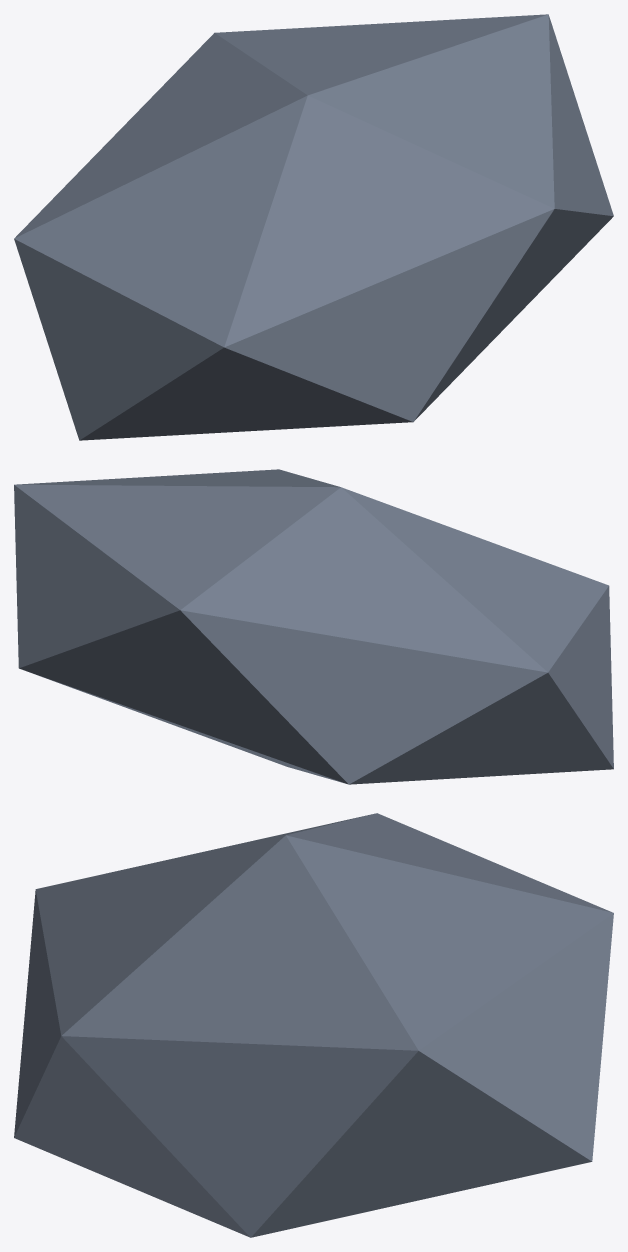
File: EXTG_BranchStone_01.glb
The picture shows the model from 3 angles, top to bottom: view 1: azimuth 30°, elevation 25°; view 2: azimuth 150°, elevation 25°; view 3: azimuth 270°, elevation 25°; orthographic projection. The views are drawn at different scales.
Visible parts, largest first — view 1: EXTG_BranchStone_01; view 2: EXTG_BranchStone_01; view 3: EXTG_BranchStone_01.
Boxes of the visible parts, x1=… form: EXTG_BranchStone_01: x1=14, y1=14, x2=613, y2=440; EXTG_BranchStone_01: x1=14, y1=469, x2=613, y2=784; EXTG_BranchStone_01: x1=14, y1=813, x2=613, y2=1237.
Size of the model in its own units: 1.02 by 0.5108 by 0.7735.
